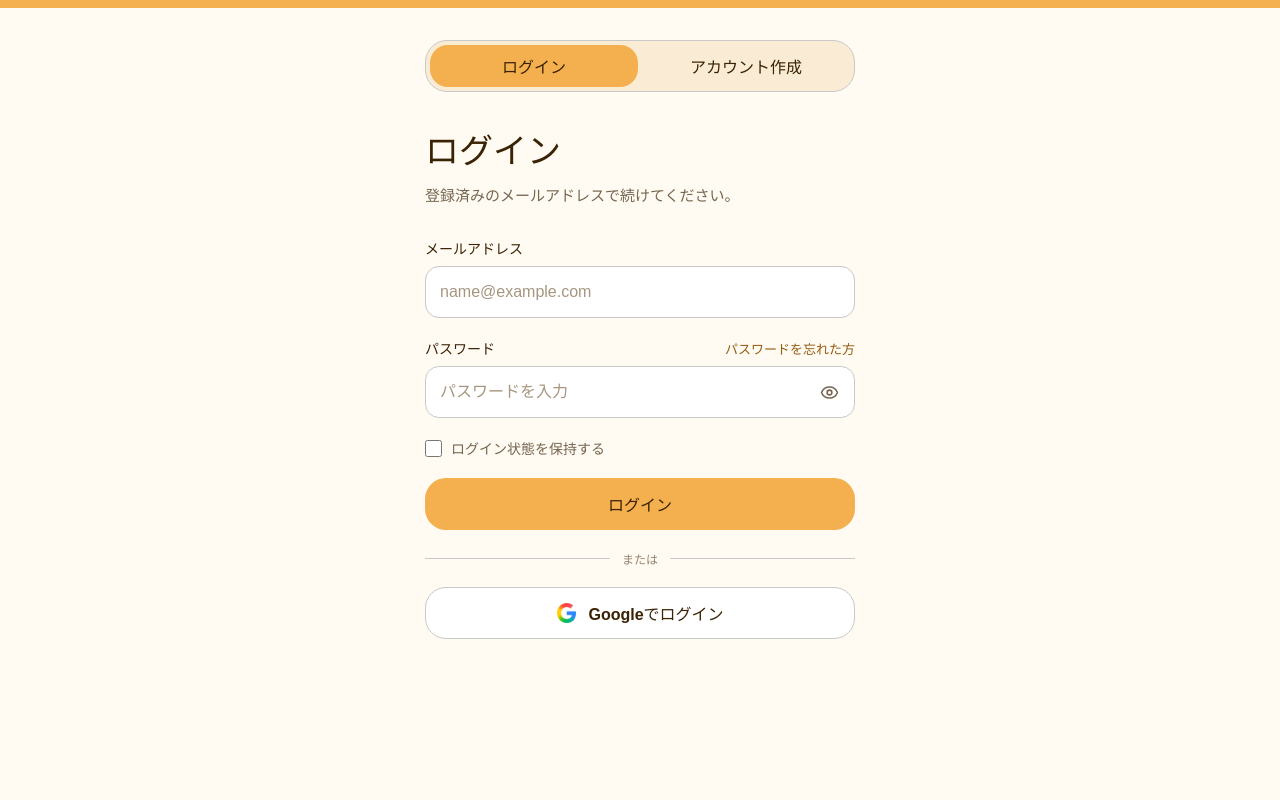
Scenario: LoginPage › アカウント作成ページへ遷移できる
Click the link "アカウント作成": (746, 68) [690, 59, 802, 76]
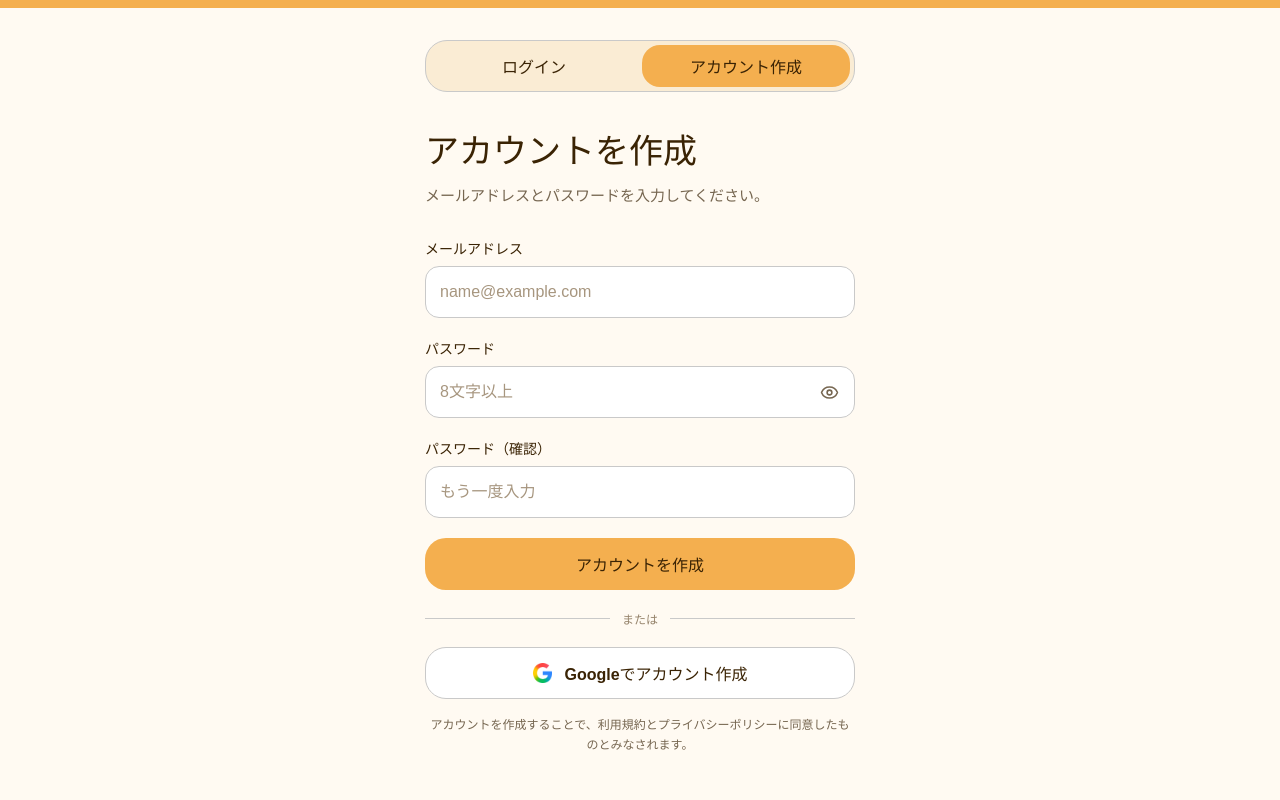
Now the heading "アカウントを作成" is shown, box [425, 132, 697, 170]
Now the password field labelled "パスワード（確認）" is shown, box [425, 466, 855, 518]
Now the button "Googleでアカウント作成" is shown, box [425, 647, 855, 699]
